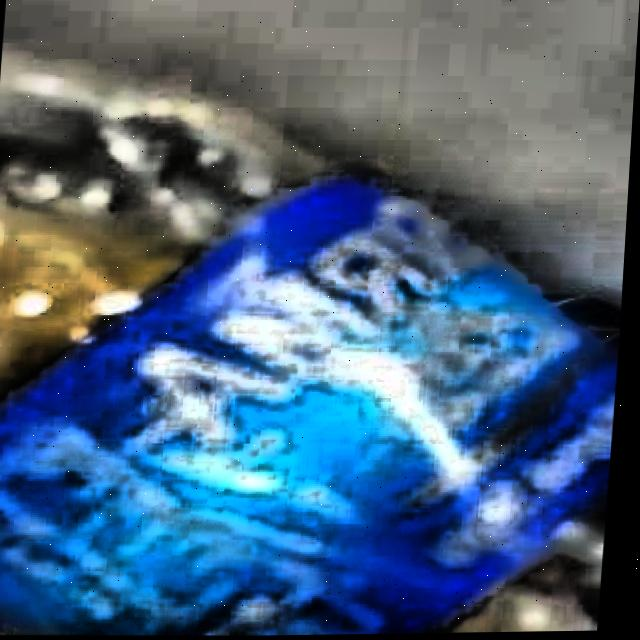plastic: (0, 55, 623, 636)
